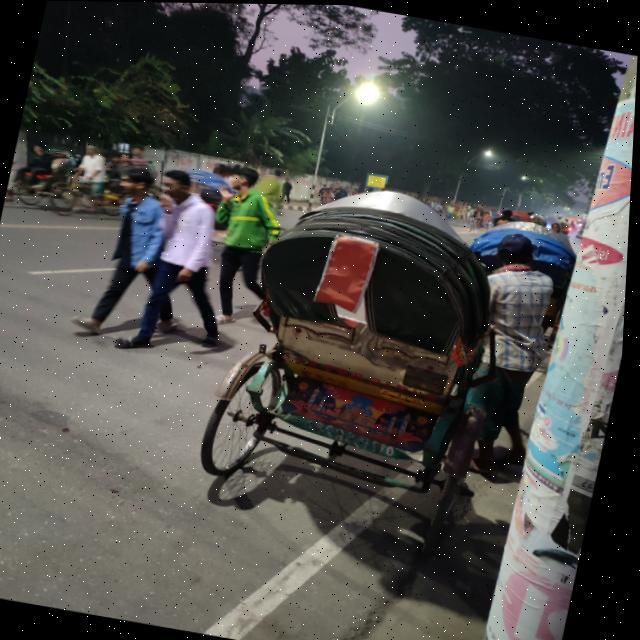rikshaw: (112, 120, 546, 594)
